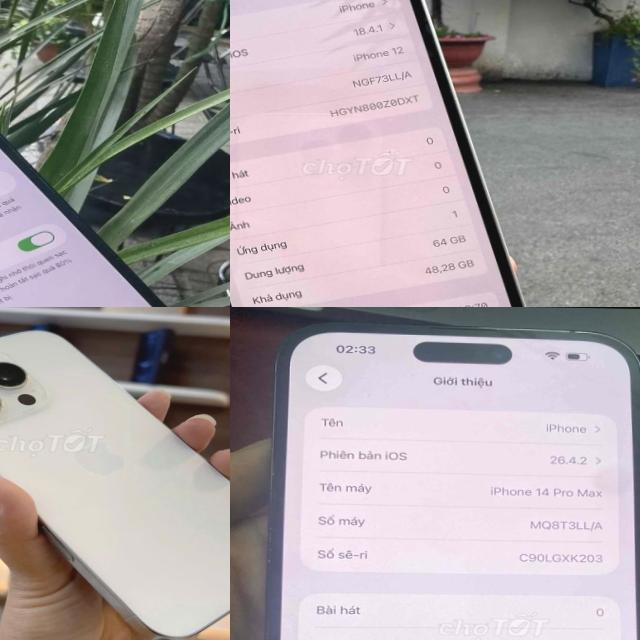gen_12_13: (230, 0, 544, 307)
gen_14: (239, 312, 640, 640), (0, 28, 223, 307)
gen_16: (0, 330, 230, 640)
